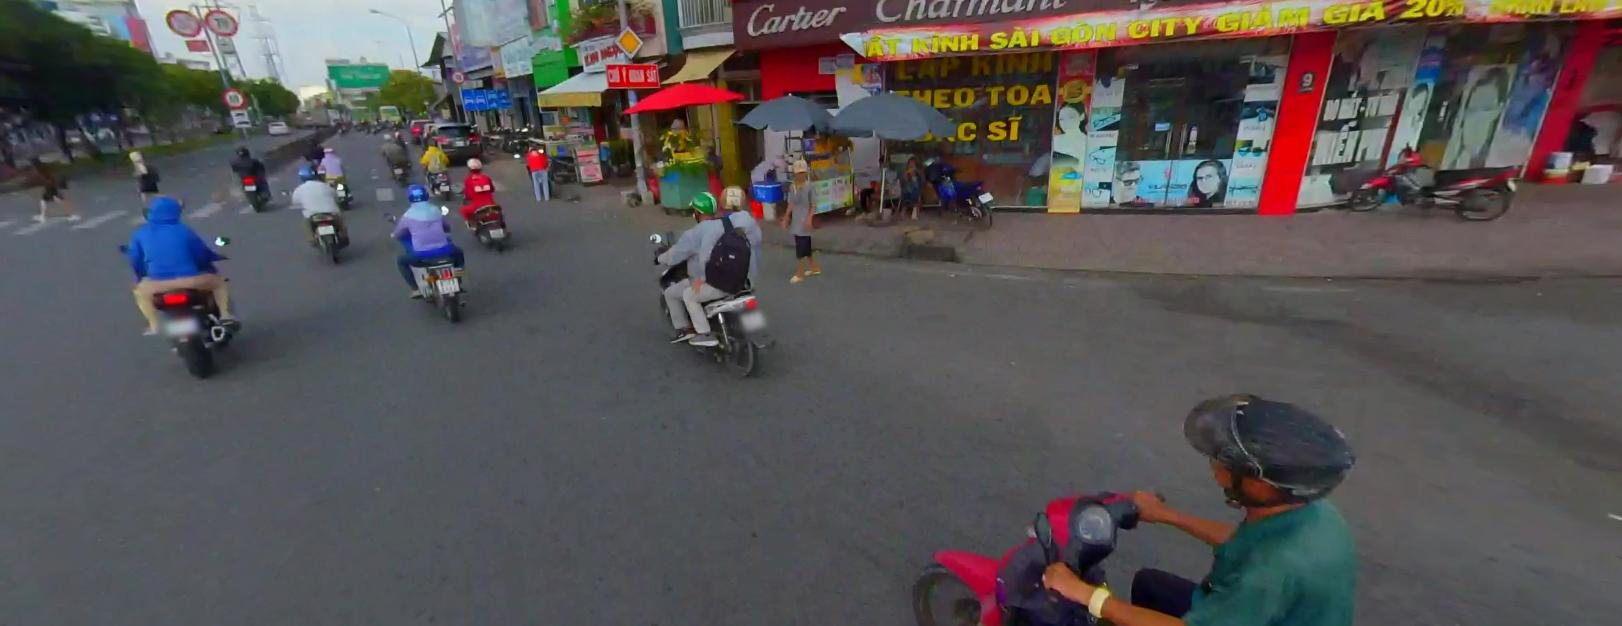Cam con lai: (166, 9, 202, 37)
Gioi han toc do: (205, 8, 239, 33), (223, 87, 245, 108), (451, 70, 463, 82)
